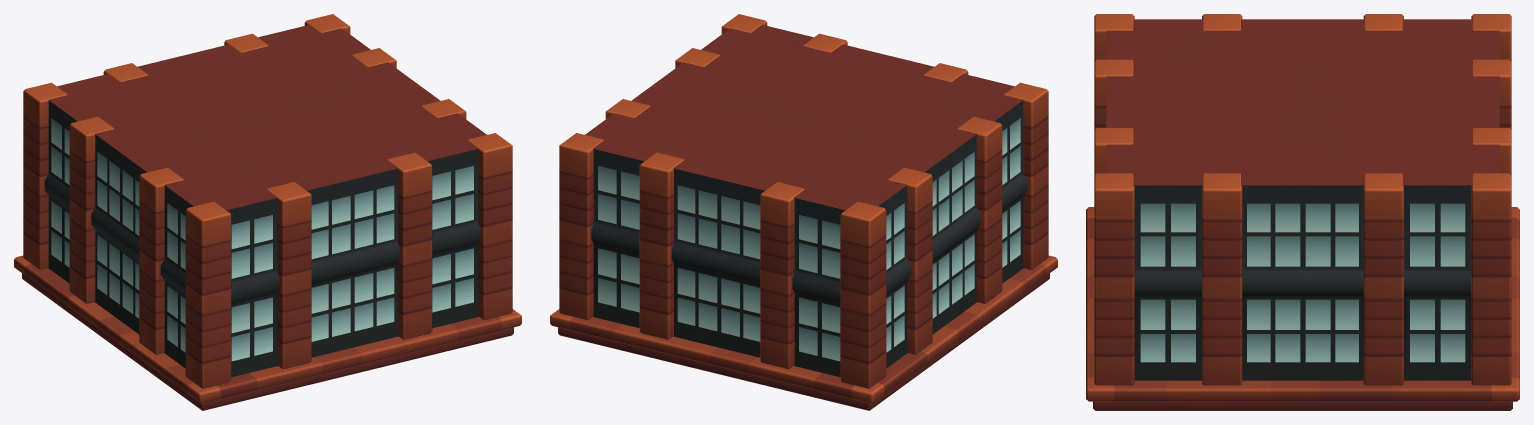
Rendered from office_building_type1_double_floor_red.fbx.
The picture shows the model from 3 angles, left to right: view 1: azimuth 30°, elevation 25°; view 2: azimuth 150°, elevation 25°; view 3: azimuth 270°, elevation 25°; orthographic projection. The views are drawn at different scales.
Visible parts, largest first — view 1: office_building_type1_double_floor_red; view 2: office_building_type1_double_floor_red; view 3: office_building_type1_double_floor_red.
Part boxes in pixels (x1,y1,x2,y2): office_building_type1_double_floor_red: (14,14,521,410); office_building_type1_double_floor_red: (550,14,1057,410); office_building_type1_double_floor_red: (1086,14,1519,410).
Size of the model in its own units: 1610 by 909 by 1610.
